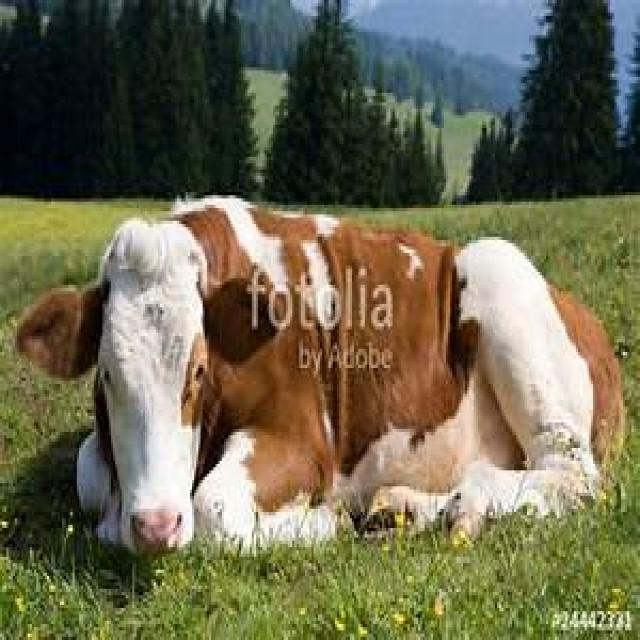cow: (15, 198, 629, 560)
